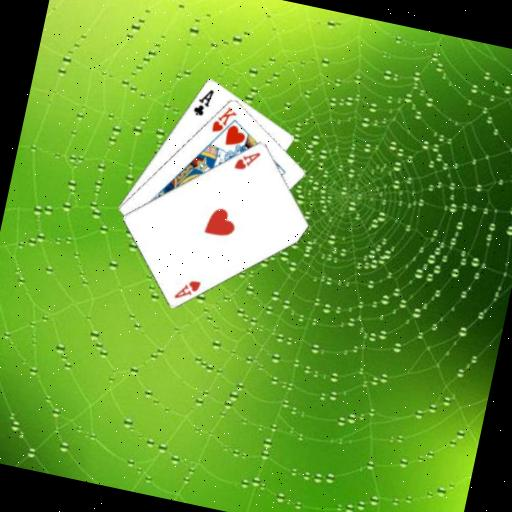AC: (189, 83, 216, 119)
AH: (171, 272, 203, 304), (230, 144, 263, 175)
KH: (207, 100, 240, 137)
